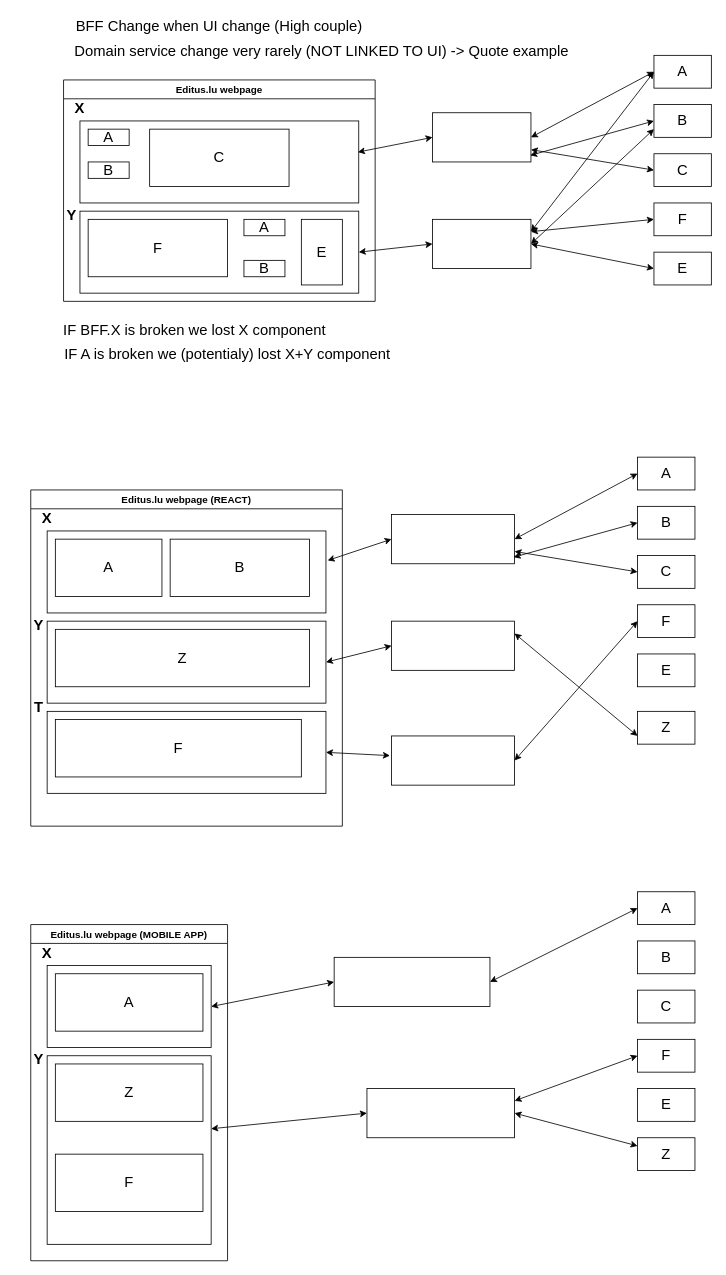
Image size: 726x1275. Some labels were removed from this diagram. Each missing label, with the centre of its shape:
BFF.T.REACT: (453,760)
BFF.X: (481,137)
BFF.X.MOBILEAPP: (411,982)
BFF.X.REACT: (453,539)
BFF.Y: (481,244)
BFF.Y.MOBILEAPP: (440,1113)
BFF.Y.REACT: (453,645)
